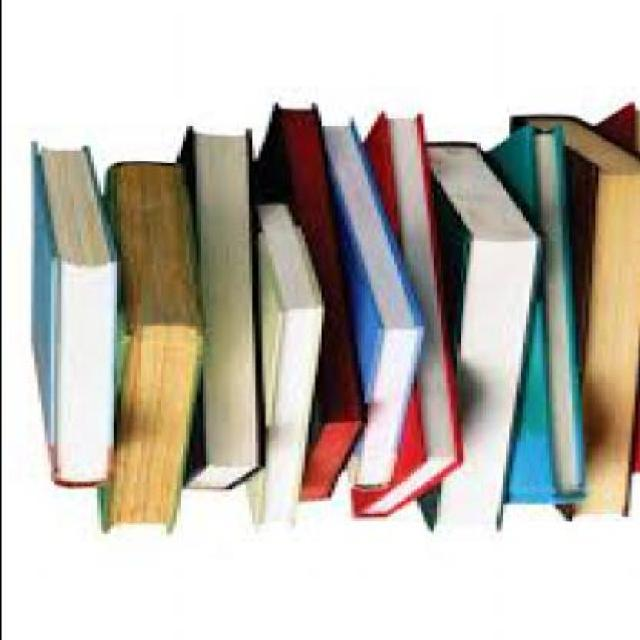PAPER: (501, 103, 637, 522), (412, 143, 538, 534), (303, 97, 426, 494), (478, 125, 600, 507), (346, 109, 456, 522), (251, 107, 363, 504), (89, 164, 191, 536), (171, 131, 264, 494), (26, 146, 116, 492), (234, 206, 323, 528)
